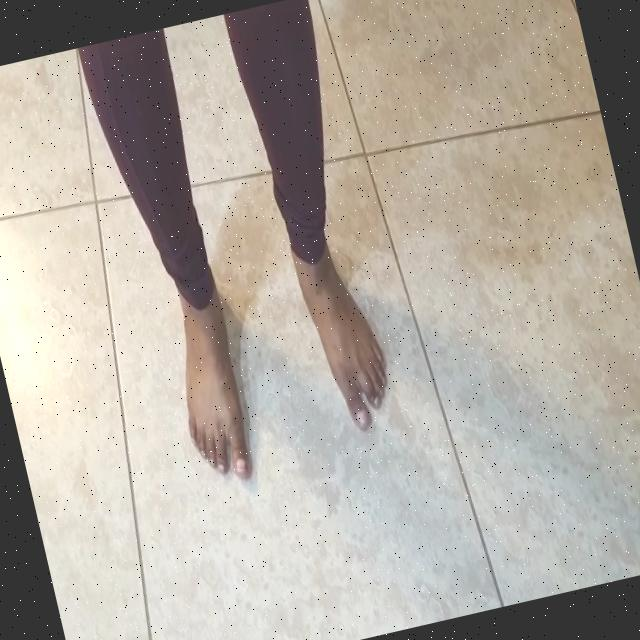no-boots: (286, 213, 406, 438), (157, 272, 264, 490)
